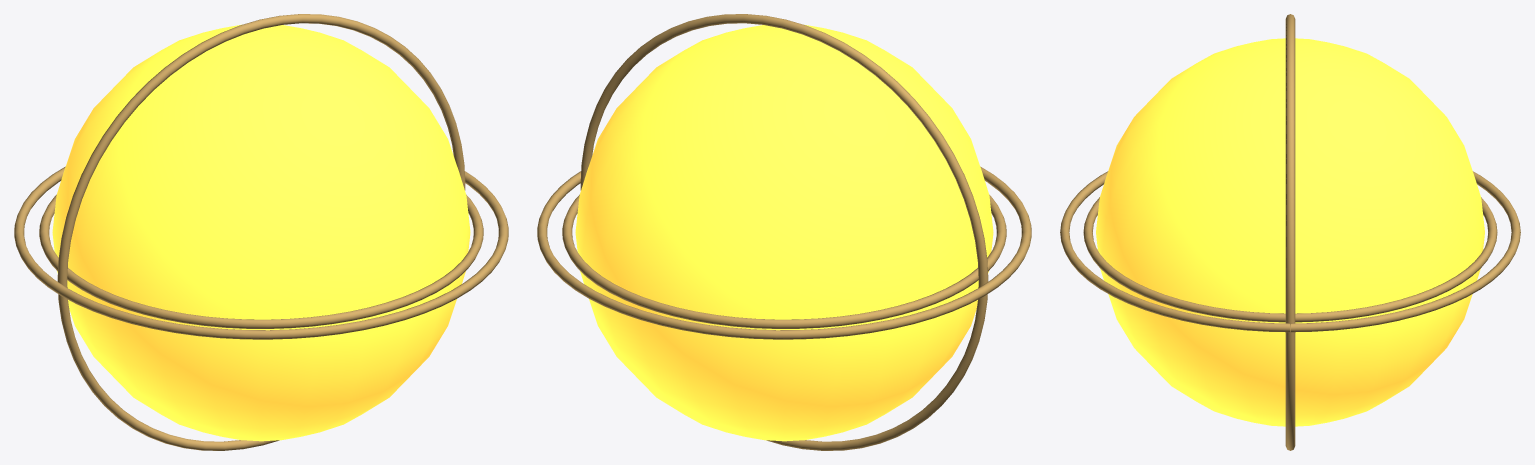
The model's file is sanctum-orb-v01.glb.
3 views of the same model, side by side, from view 1: azimuth 30°, elevation 25°; view 2: azimuth 150°, elevation 25°; view 3: azimuth 270°, elevation 25° (orthographic). The views are drawn at different scales.
Visible parts, largest first — view 1: Sanctum Guardian amber light, Sanctum Guardian chased light bronze; view 2: Sanctum Guardian amber light, Sanctum Guardian chased light bronze; view 3: Sanctum Guardian amber light, Sanctum Guardian chased light bronze.
Boxes of the visible parts, bbox=[...] form: Sanctum Guardian amber light: bbox=[52, 24, 470, 441]; Sanctum Guardian chased light bronze: bbox=[14, 14, 508, 450]; Sanctum Guardian amber light: bbox=[575, 24, 993, 441]; Sanctum Guardian chased light bronze: bbox=[537, 14, 1031, 450]; Sanctum Guardian amber light: bbox=[1096, 38, 1484, 426]; Sanctum Guardian chased light bronze: bbox=[1060, 14, 1520, 450].
Bounding box in the file's own units: 0.592 × 0.562 × 0.592.
